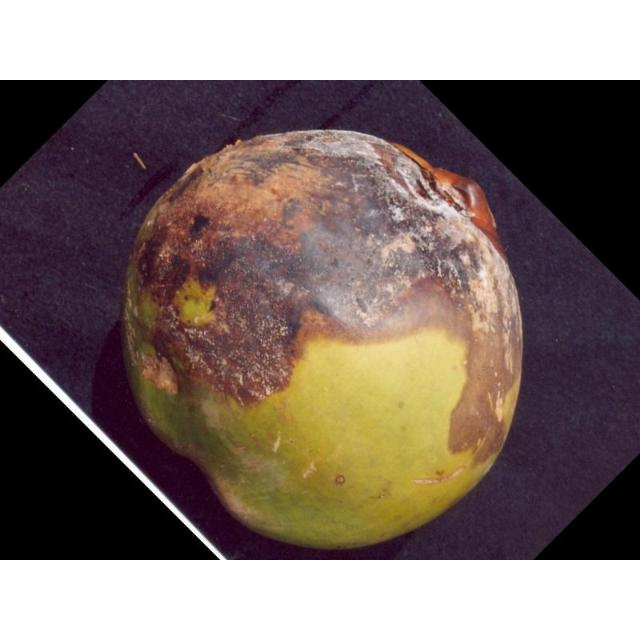damaged: (117, 130, 524, 553)
